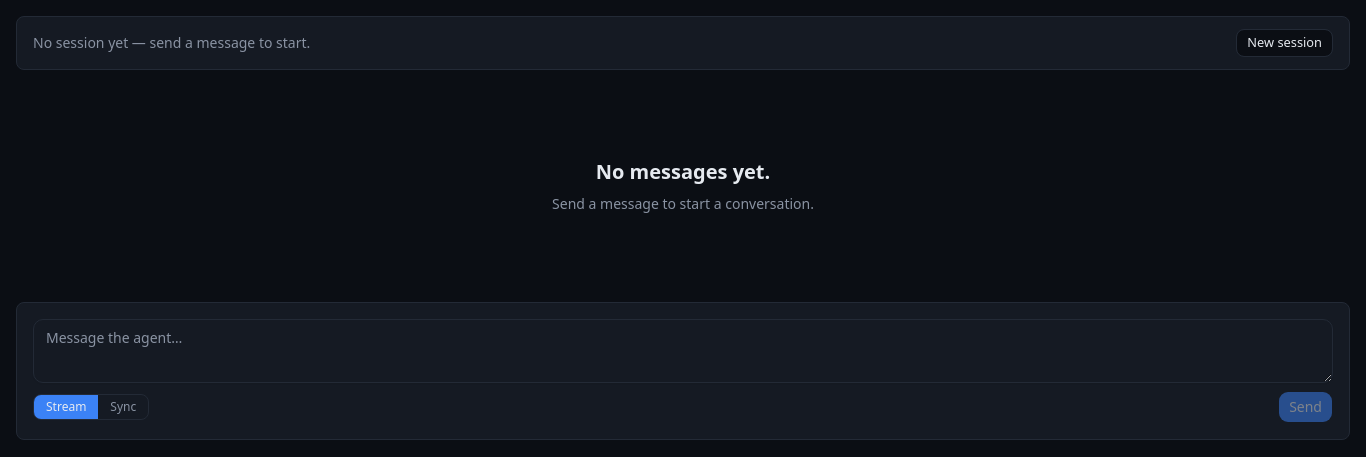
Test case: ChatPage — new session (CHAT-02 / D-06) › clears the transcript to the empty state and resets the id (sync turn)
Click the button "Sync": point(123, 407) [98,395,148,419]
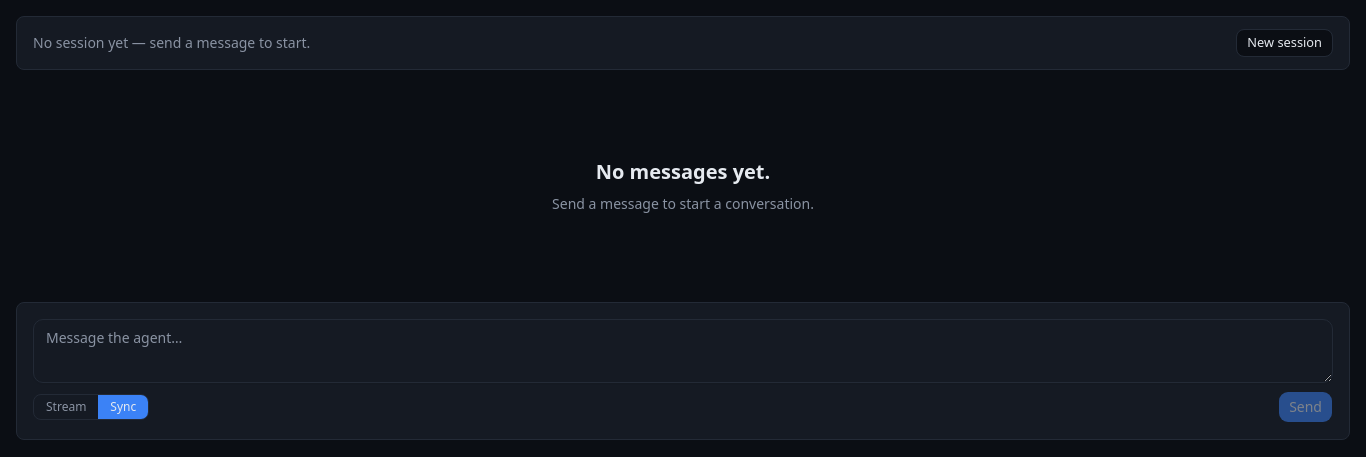
In the text box labelled "Message the agent": point(683, 351) [33,319,1333,383], type "hello"
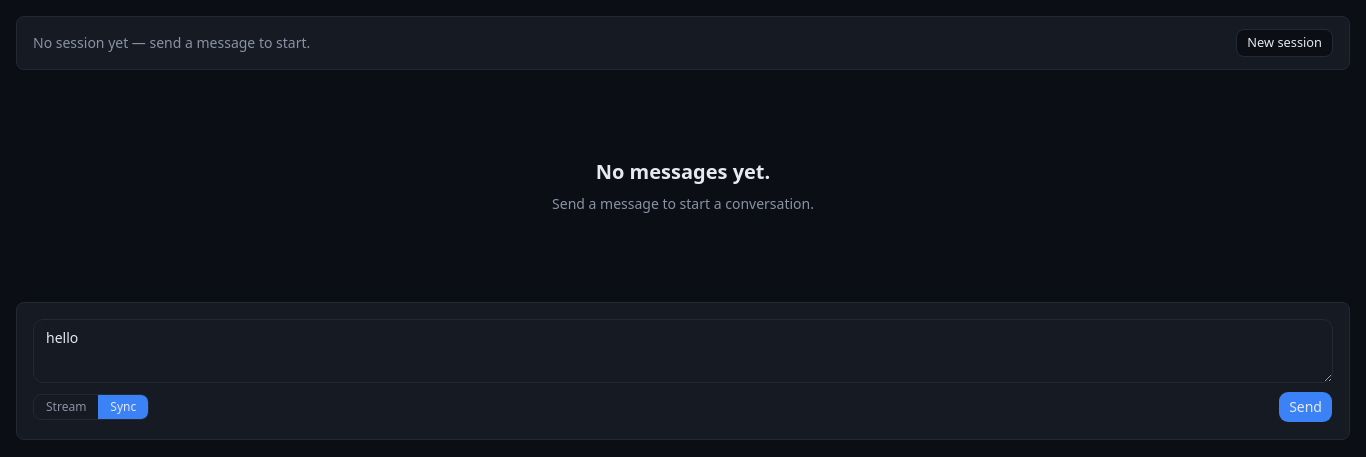
Click the button "Send": point(1306, 407) [1278,391,1333,423]
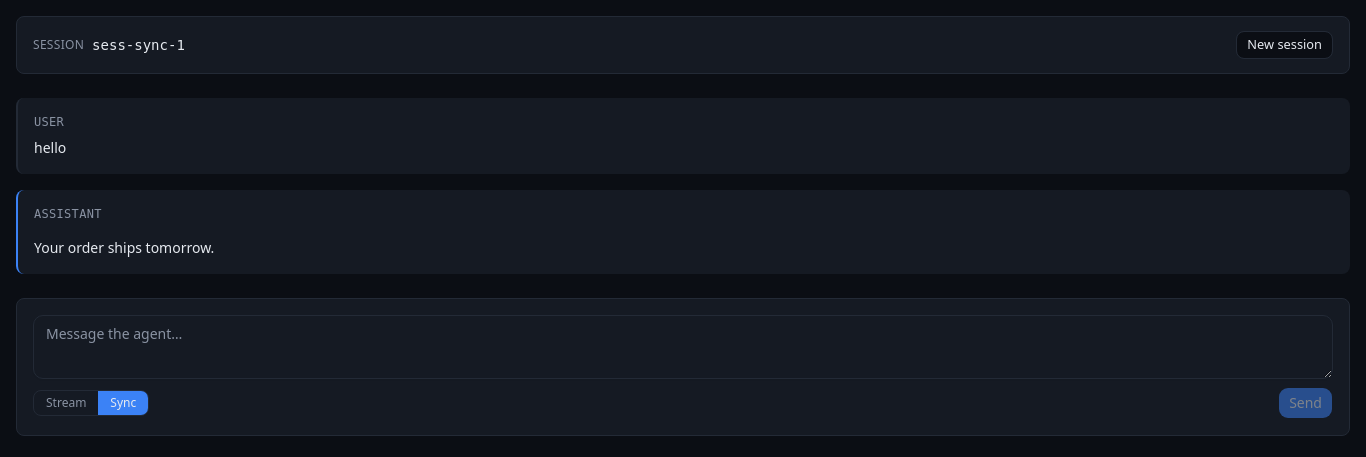
Now the text "sess-sync-1" is shown, box [92,35,185,55]
Now the text "Your order ships tomorrow." is shown, box [34,238,214,257]
Click the button "New session": point(1285, 45) [1236,31,1333,59]
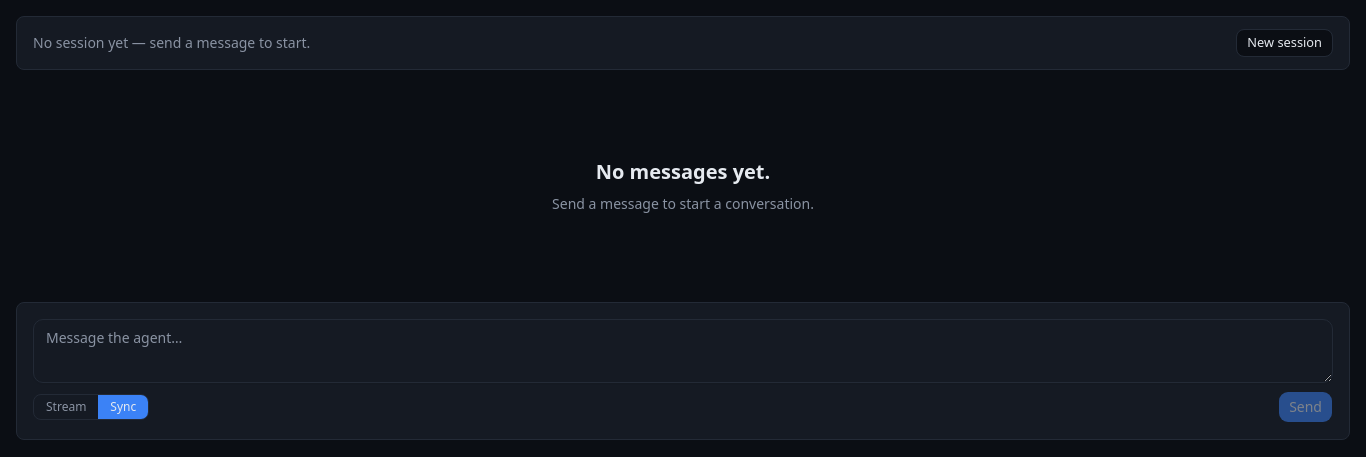
Now the text "No messages yet." is shown, box [596,158,770,186]
Now the text "Your order ships tomorrow." is gone
Now the text "No session yet — send a message to start." is shown, box [33,33,310,53]
